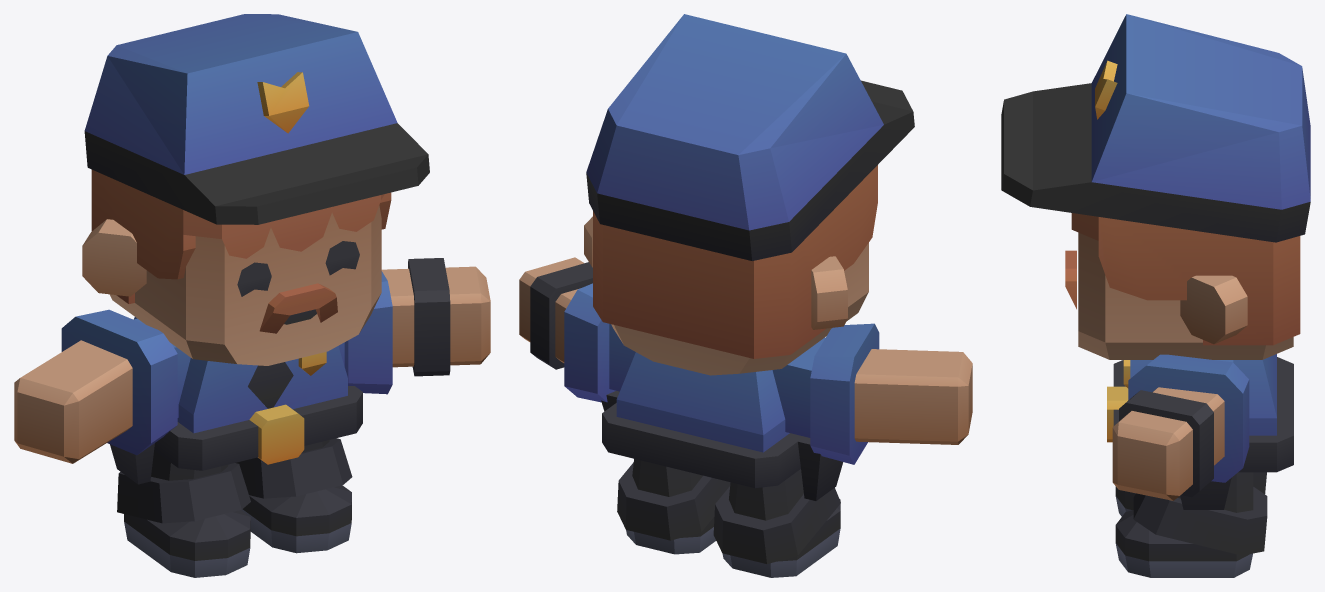
File: citizen-male-c.glb
3 renders of one model, left to right at view 1: azimuth 30°, elevation 25°; view 2: azimuth 150°, elevation 25°; view 3: azimuth 270°, elevation 25°, orthographic. The views are drawn at different scales.
Visible parts, largest first — view 1: citizen-male-c; view 2: citizen-male-c; view 3: citizen-male-c.
Boxes of the visible parts, x1=… form: citizen-male-c: x1=14, y1=14, x2=490, y2=577; citizen-male-c: x1=519, y1=14, x2=972, y2=577; citizen-male-c: x1=1001, y1=14, x2=1310, y2=577.
Bounding box in the file's own units: 0.9676 × 1 × 0.581.
